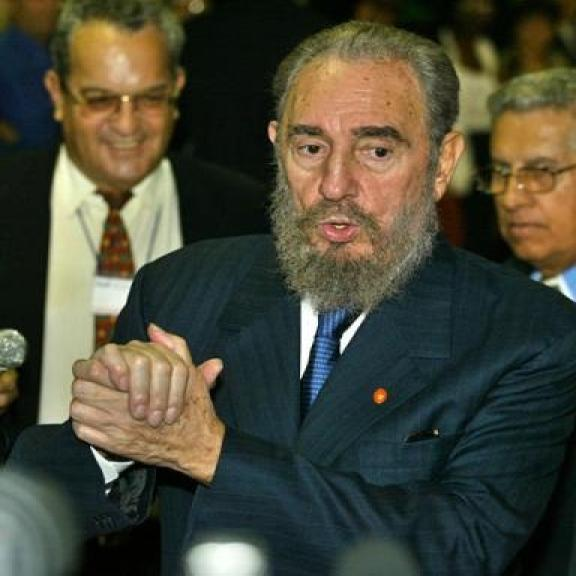face: (258, 59, 468, 274), (42, 28, 192, 189), (493, 110, 576, 277)
